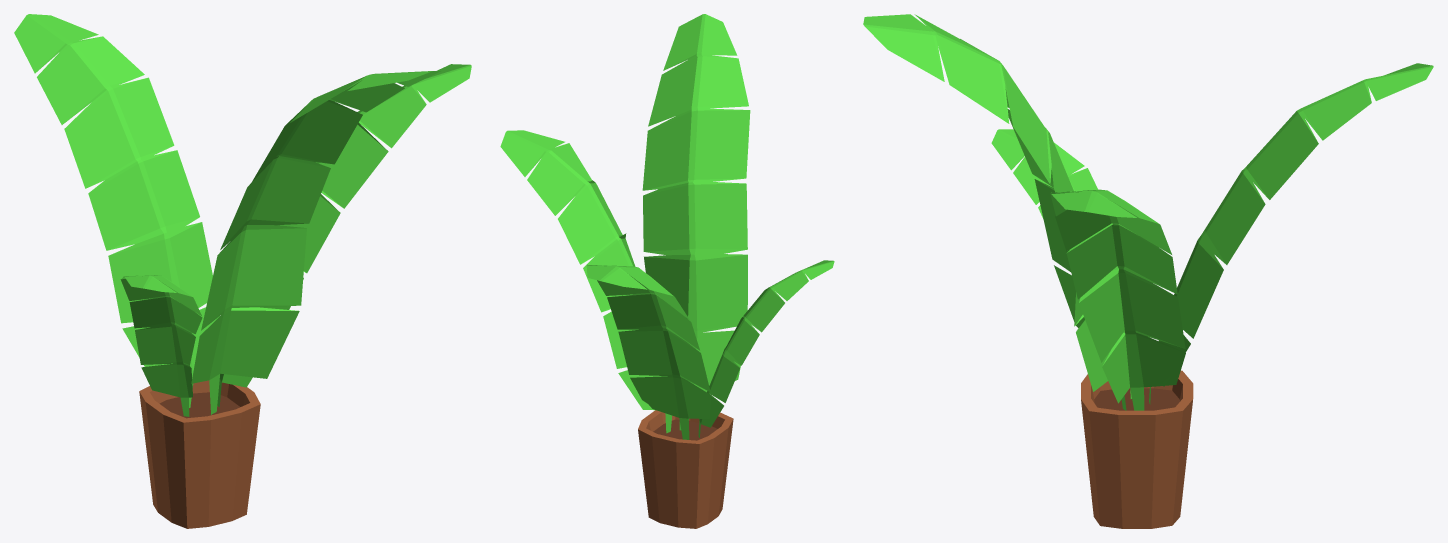
Rendered from plant.fbx.
3 renders of one model, left to right at view 1: azimuth 30°, elevation 25°; view 2: azimuth 150°, elevation 25°; view 3: azimuth 270°, elevation 25°, orthographic. The views are drawn at different scales.
Visible parts, largest first — view 1: Plane.001, Plane.003, Cube, Plane, Plane.002; view 2: Plane.003, Plane.001, Plane, Cube, Plane.002; view 3: Plane, Cube, Plane.003, Plane.001, Plane.002.
Part boxes in pixels (x1,y1,x2,y2): Plane.001: (14,14,219,407); Plane.003: (191,71,441,414); Cube: (139,380,260,528); Plane: (217,64,471,406); Plane.002: (120,275,202,416); Plane.003: (642,14,750,430); Plane.001: (586,264,711,439); Plane: (500,130,671,433); Cube: (638,410,733,528); Plane.002: (698,260,834,437); Plane: (1050,189,1185,410); Cube: (1081,370,1193,528); Plane.003: (863,14,1126,410); Plane.001: (1149,63,1433,404); Plane.002: (991,129,1149,398).
Size of the model in its own units: 914 by 738 by 954.
